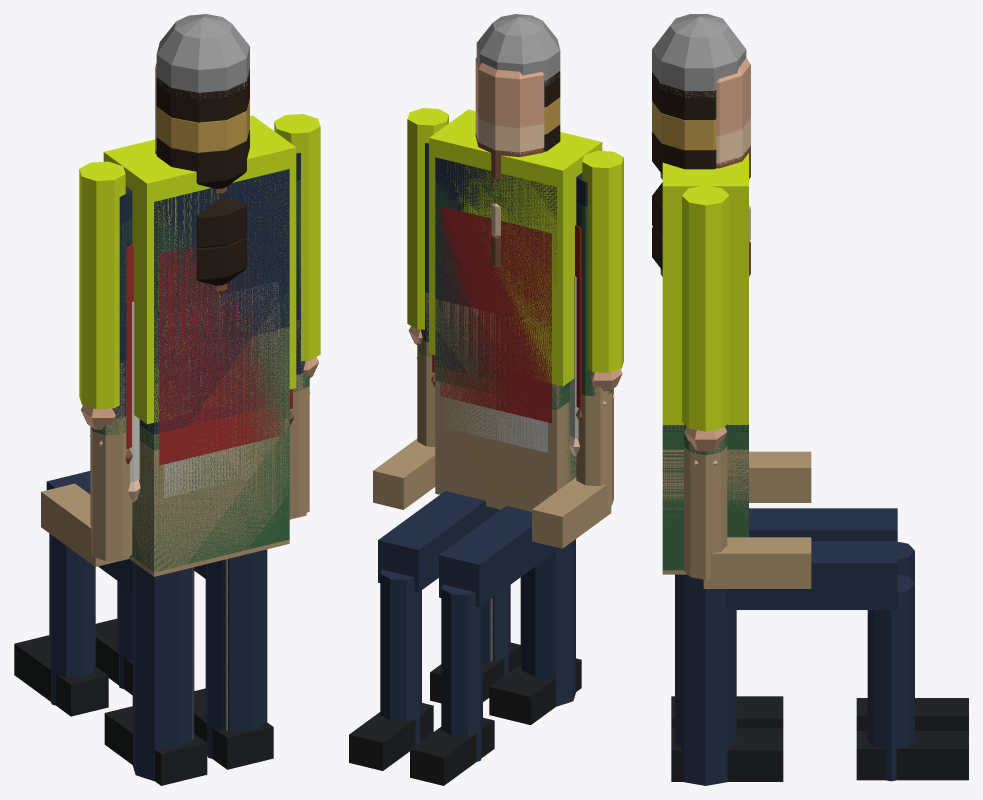
Rendered from people.glb.
3 views of the same model, side by side, from view 1: azimuth 30°, elevation 25°; view 2: azimuth 150°, elevation 25°; view 3: azimuth 270°, elevation 25° (orthographic). The views are drawn at different scales.
Visible parts, largest first — view 1: person_3, person_sit_0, person_0, person_1, person_sit_1, person_4, person_2; view 2: person_sit_0, person_3, person_1, person_0, person_2, person_4; view 3: person_3, person_sit_0, person_2, person_sit_1, person_0, person_1, person_4.
Boxes of the visible parts, x1=… form: person_3: x1=79, y1=14, x2=320, y2=785; person_sit_0: x1=14, y1=237, x2=309, y2=716; person_0: x1=101, y1=69, x2=305, y2=784; person_1: x1=120, y1=129, x2=294, y2=784; person_sit_1: x1=131, y1=331, x2=289, y2=572; person_4: x1=128, y1=197, x2=279, y2=777; person_2: x1=89, y1=99, x2=310, y2=738; person_sit_0: x1=349, y1=235, x2=613, y2=785; person_3: x1=407, y1=14, x2=623, y2=724; person_1: x1=431, y1=124, x2=582, y2=722; person_0: x1=421, y1=71, x2=604, y2=724; person_2: x1=416, y1=97, x2=614, y2=661; person_4: x1=435, y1=203, x2=579, y2=723; person_3: x1=652, y1=14, x2=783, y2=785; person_sit_0: x1=652, y1=226, x2=968, y2=781; person_2: x1=652, y1=101, x2=750, y2=465; person_sit_1: x1=662, y1=432, x2=748, y2=570; person_0: x1=652, y1=72, x2=783, y2=748; person_1: x1=652, y1=131, x2=783, y2=717; person_4: x1=652, y1=182, x2=783, y2=746.
Bounding box in the file's own units: 0.627 × 1.89 × 0.7344.
